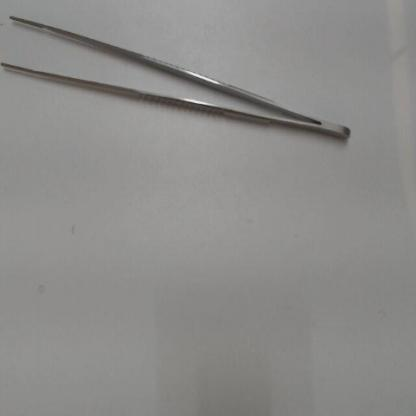DeBakey Dissector: (1, 10, 367, 155)
